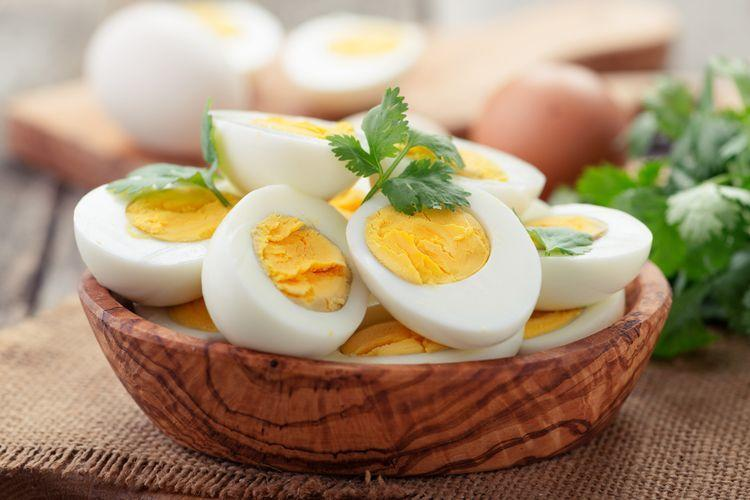telur: (406, 227, 527, 321), (244, 195, 324, 336), (103, 185, 197, 290), (541, 212, 622, 298), (240, 118, 322, 186)
